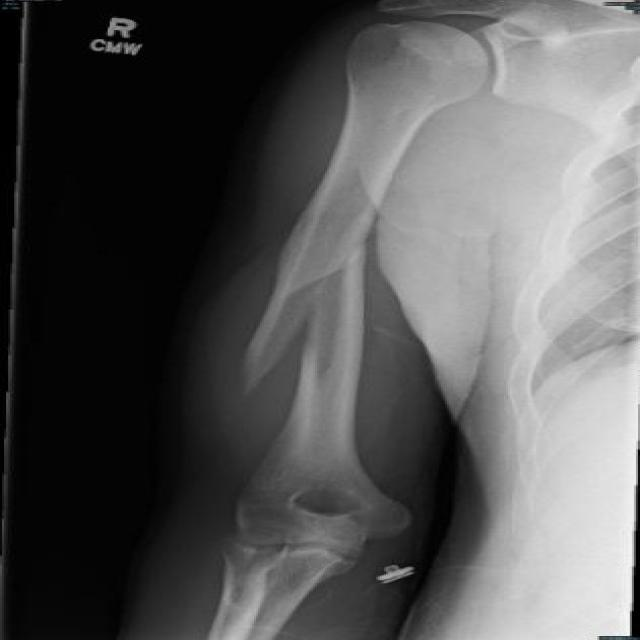Spiral: (162, 143, 464, 432)
